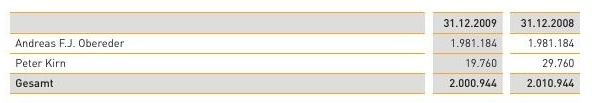table: (0, 0, 592, 103)
